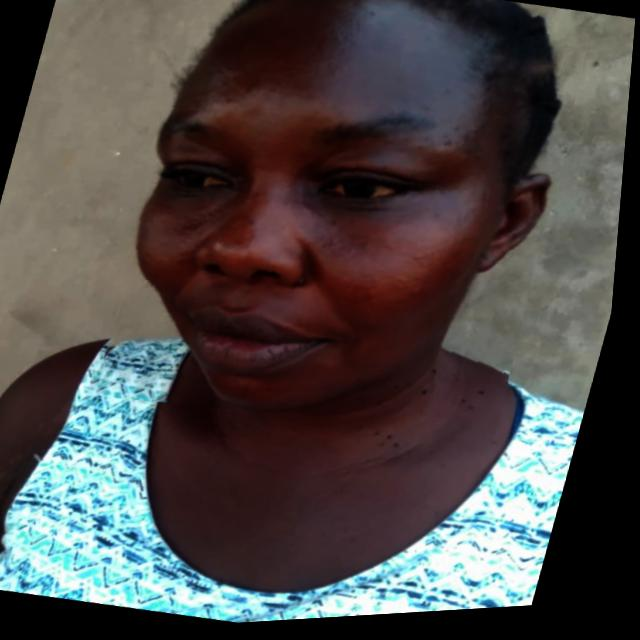sad: (86, 0, 609, 471)
